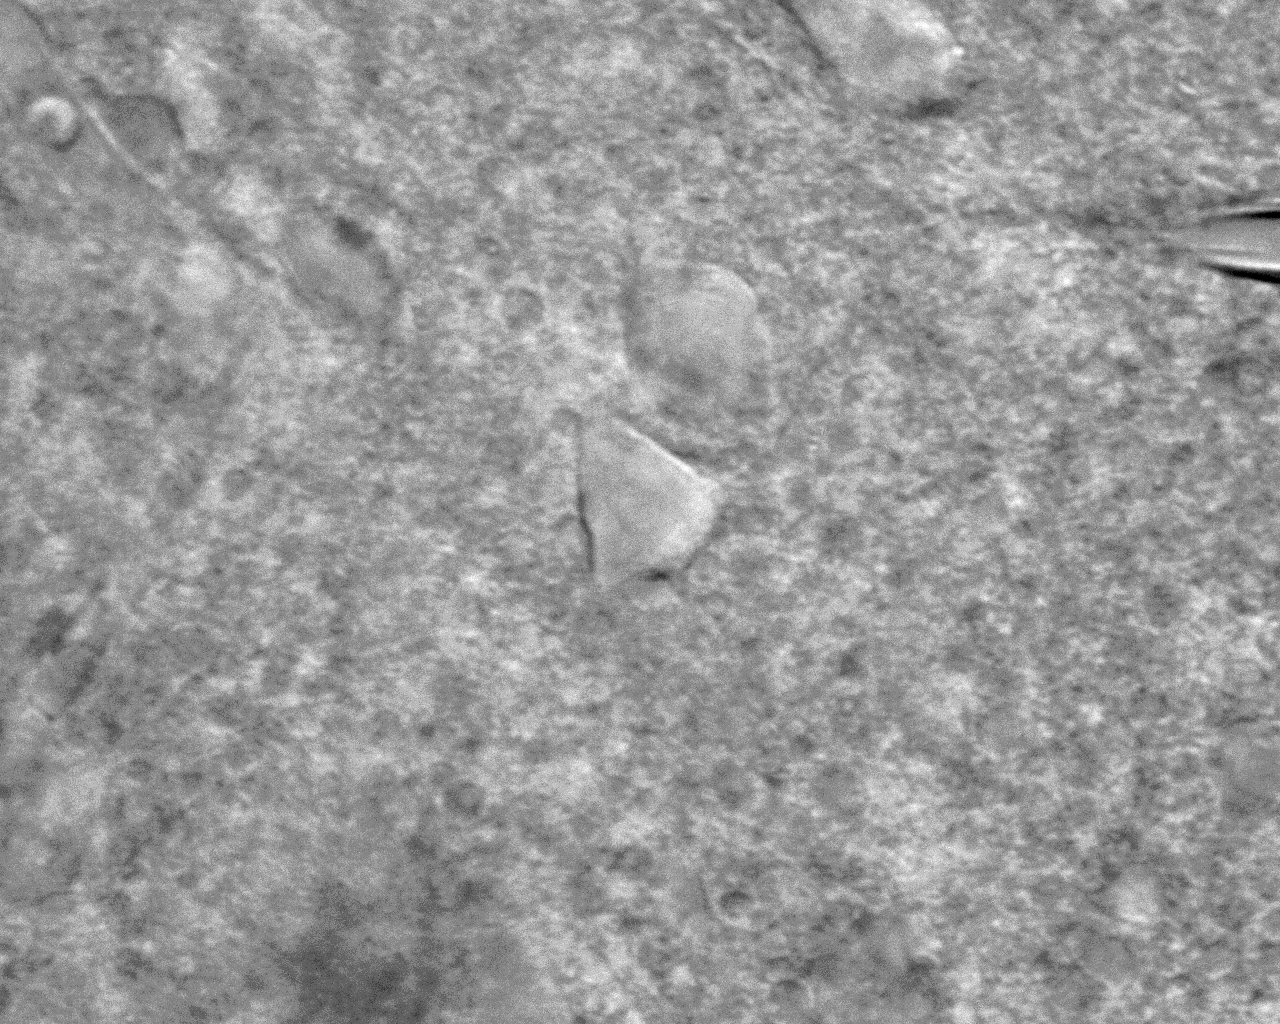neuron: (550, 404, 735, 603), (604, 243, 776, 423)
